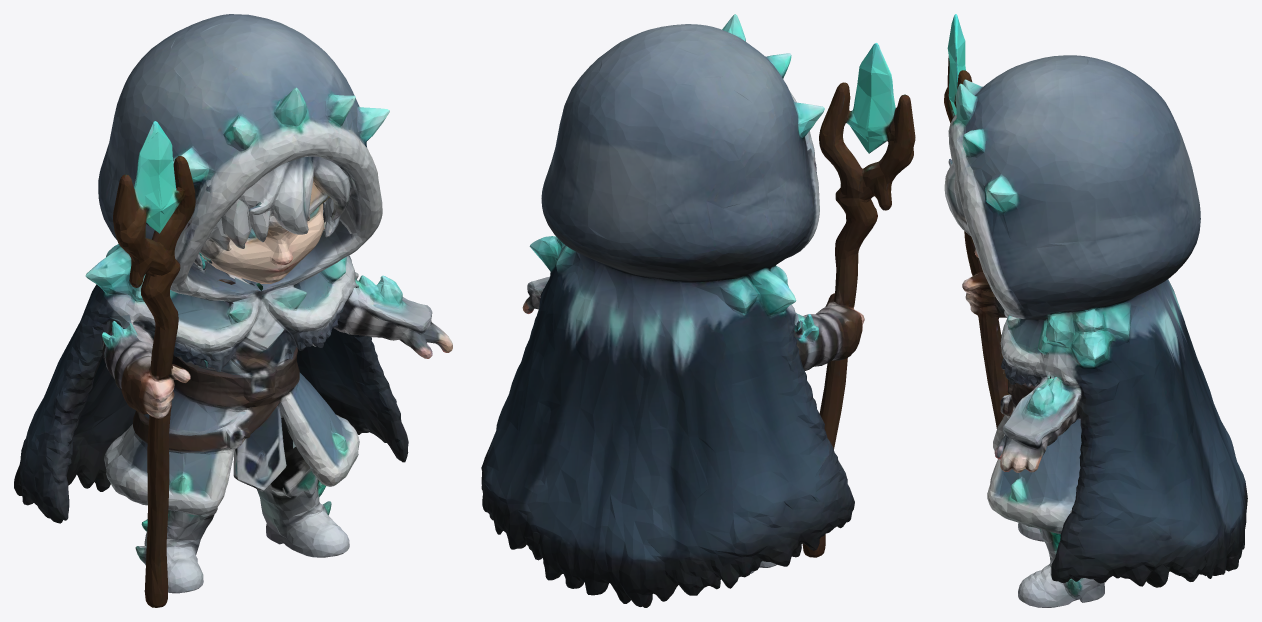
The model's file is frostbite.glb.
The picture shows the model from 3 angles, left to right: view 1: azimuth 30°, elevation 25°; view 2: azimuth 150°, elevation 25°; view 3: azimuth 270°, elevation 25°; orthographic projection. The views are drawn at different scales.
Visible parts, largest first — view 1: tmp3iekb3mb.ply; view 2: tmp3iekb3mb.ply; view 3: tmp3iekb3mb.ply.
Part boxes in pixels (bbox=[...]): tmp3iekb3mb.ply: bbox=[14, 14, 452, 607]; tmp3iekb3mb.ply: bbox=[481, 14, 915, 607]; tmp3iekb3mb.ply: bbox=[944, 14, 1247, 607].
Size of the model in its own units: 1.46 by 1.99 by 1.1.
1 material, 1 textured.
